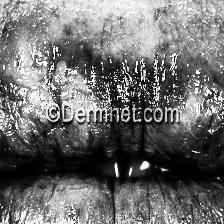Toxin: (0, 15, 224, 102), (0, 124, 224, 168)
